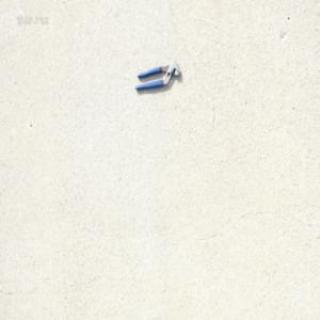Pliertrack_idkeyframe: (134, 59, 180, 92)
